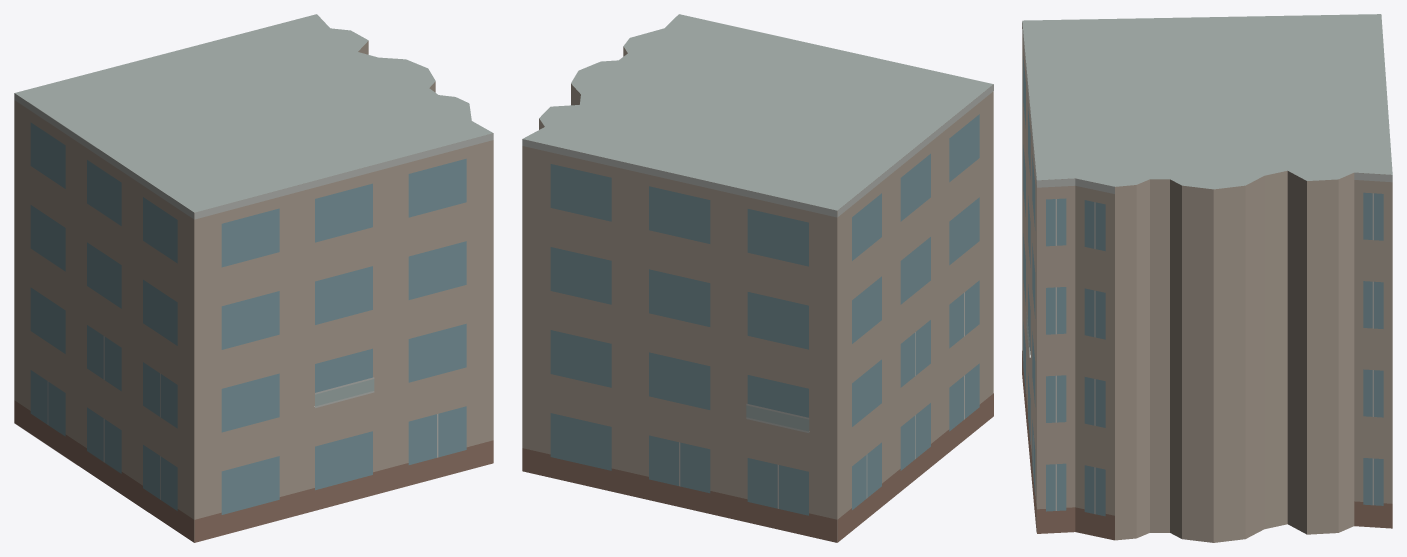
Rendered from survey-upis-32615860.glb.
The picture shows the model from 3 angles, left to right: view 1: azimuth 30°, elevation 25°; view 2: azimuth 150°, elevation 25°; view 3: azimuth 270°, elevation 25°; orthographic projection. The views are drawn at different scales.
Parts seen in each view (by area): view 1: survey-upis-32615860.tmp; view 2: survey-upis-32615860.tmp; view 3: survey-upis-32615860.tmp.
Boxes of the visible parts, box(x1,y1,x2,y2) form: survey-upis-32615860.tmp: box(14, 14, 493, 542); survey-upis-32615860.tmp: box(522, 14, 993, 542); survey-upis-32615860.tmp: box(1022, 14, 1392, 542).
Size of the model in its own units: 12.45 by 11.7 by 11.12.
